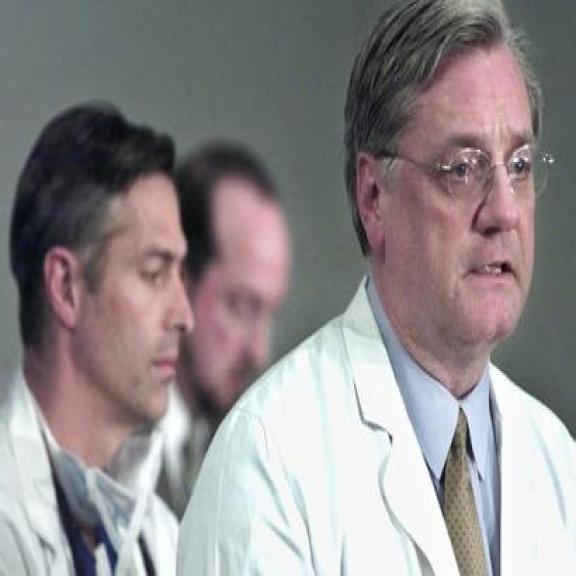face: (356, 27, 544, 350), (47, 166, 192, 436), (194, 160, 296, 416)
